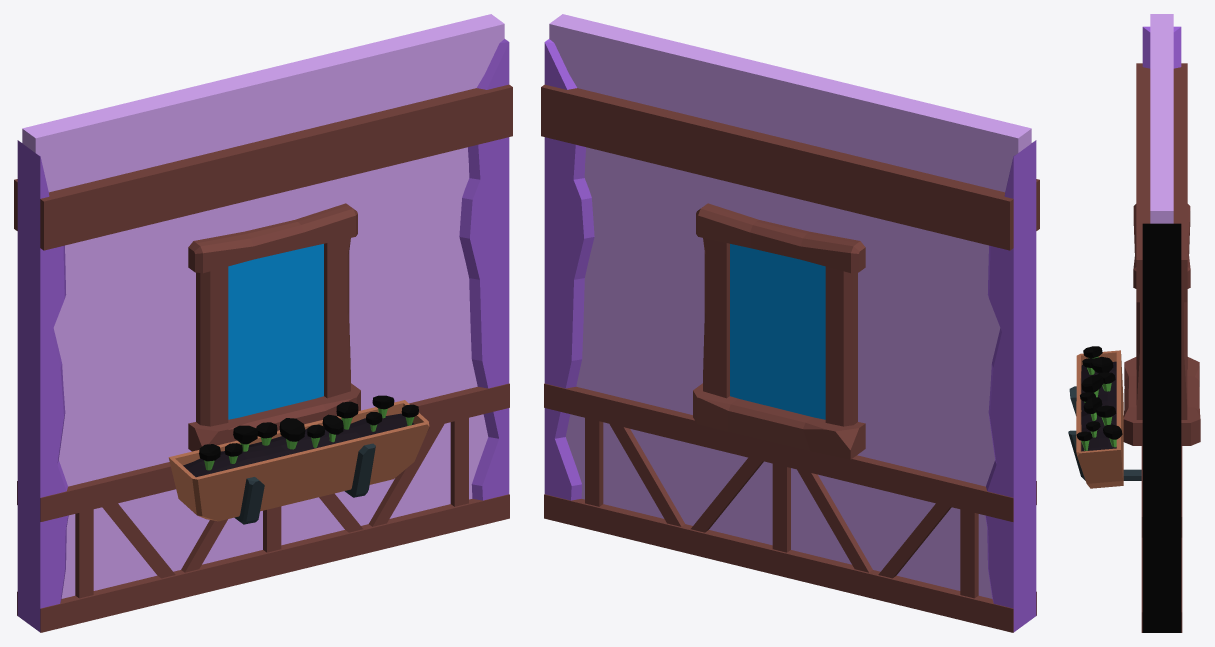
File: Modular Wall 06 MK2 W3.fbx
3 views of the same model, side by side, from view 1: azimuth 30°, elevation 25°; view 2: azimuth 150°, elevation 25°; view 3: azimuth 270°, elevation 25° (orthographic). The views are drawn at different scales.
Visible parts, largest first — view 1: Modular Wall 06 MK2 W3; view 2: Modular Wall 06 MK2 W3; view 3: Modular Wall 06 MK2 W3.
Part boxes in pixels (<box>): Modular Wall 06 MK2 W3: <box>14,14,512,632</box>; Modular Wall 06 MK2 W3: <box>541,14,1039,632</box>; Modular Wall 06 MK2 W3: <box>1068,14,1200,632</box>.
Size of the model in its own units: 400 by 400 by 113.
